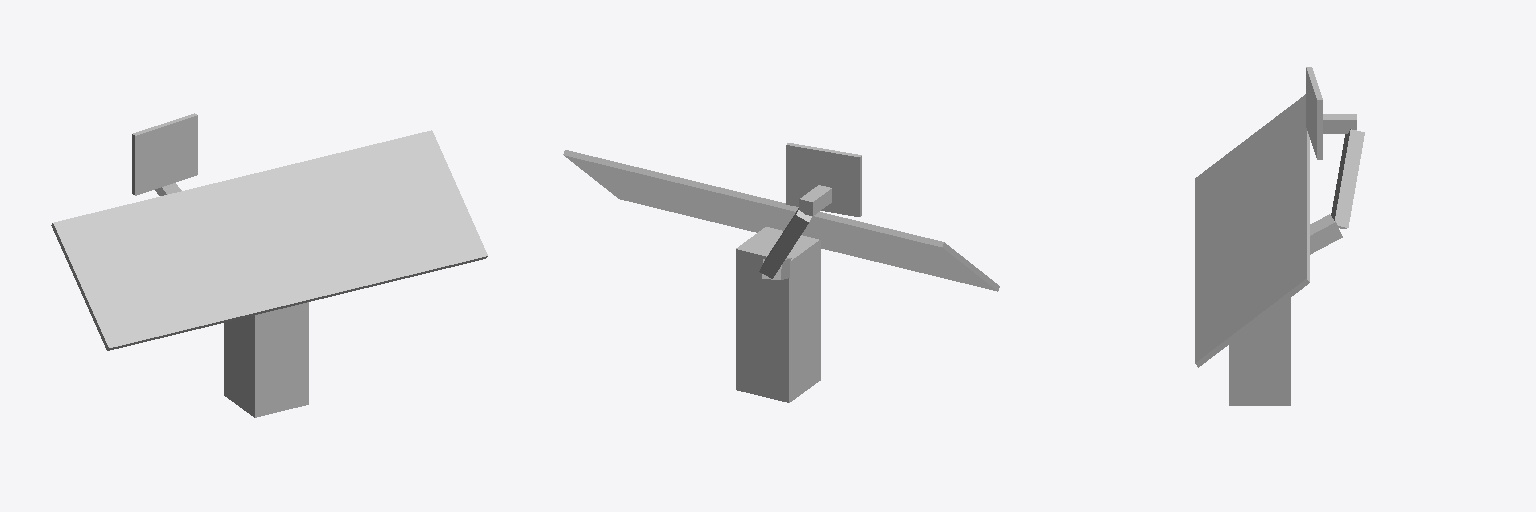
File: ISUnitStation.obj
3 renders of one model, left to right at view 1: azimuth 30°, elevation 25°; view 2: azimuth 150°, elevation 25°; view 3: azimuth 270°, elevation 25°, orthographic.
Parts seen in each view (by area): view 1: Main_Display_Cube.003, Cube_Cube.015, Small_Display_Cube.004; view 2: Main_Display_Cube.003, Cube_Cube.015, Small_Display_Cube.004, Cube.001_Cube.016, Cube.002_Cube.017; view 3: Main_Display_Cube.003, Cube_Cube.015, Cube.001_Cube.016, Small_Display_Cube.004, SmallScreen_Support2_Cube.006, Cube.002_Cube.017.
Part boxes in pixels (left/top/right/bottom): Main_Display_Cube.003: left=51, top=130, right=487, bottom=350; Cube_Cube.015: left=224, top=302, right=308, bottom=417; Small_Display_Cube.004: left=132, top=113, right=197, bottom=195; Main_Display_Cube.003: left=563, top=150, right=999, bottom=291; Cube_Cube.015: left=736, top=227, right=820, bottom=402; Small_Display_Cube.004: left=786, top=143, right=861, bottom=216; Cube.001_Cube.016: left=759, top=208, right=811, bottom=278; Cube.002_Cube.017: left=799, top=185, right=831, bottom=215; Main_Display_Cube.003: left=1195, top=94, right=1309, bottom=367; Cube_Cube.015: left=1229, top=298, right=1290, bottom=405; Cube.001_Cube.016: left=1331, top=129, right=1364, bottom=228; Small_Display_Cube.004: left=1306, top=67, right=1322, bottom=159; SmallScreen_Support2_Cube.006: left=1310, top=214, right=1342, bottom=254; Cube.002_Cube.017: left=1323, top=114, right=1356, bottom=133.
Bounding box in the file's own units: 9 × 6.2 × 3.5.